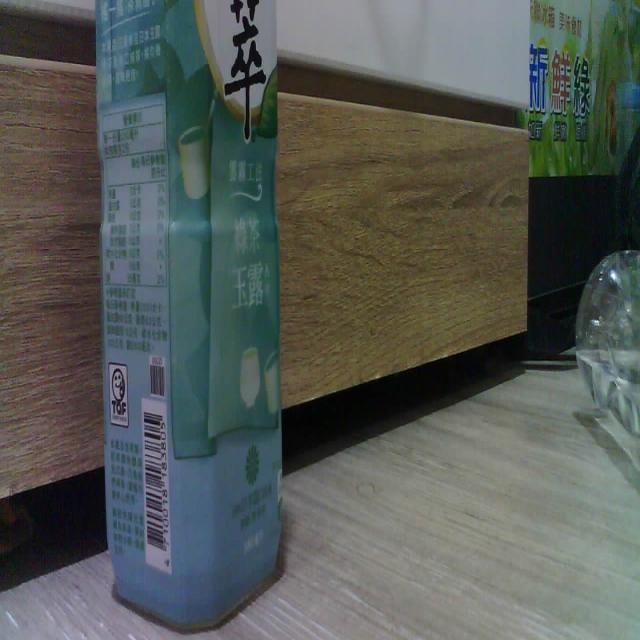bottle: (96, 0, 283, 626)
